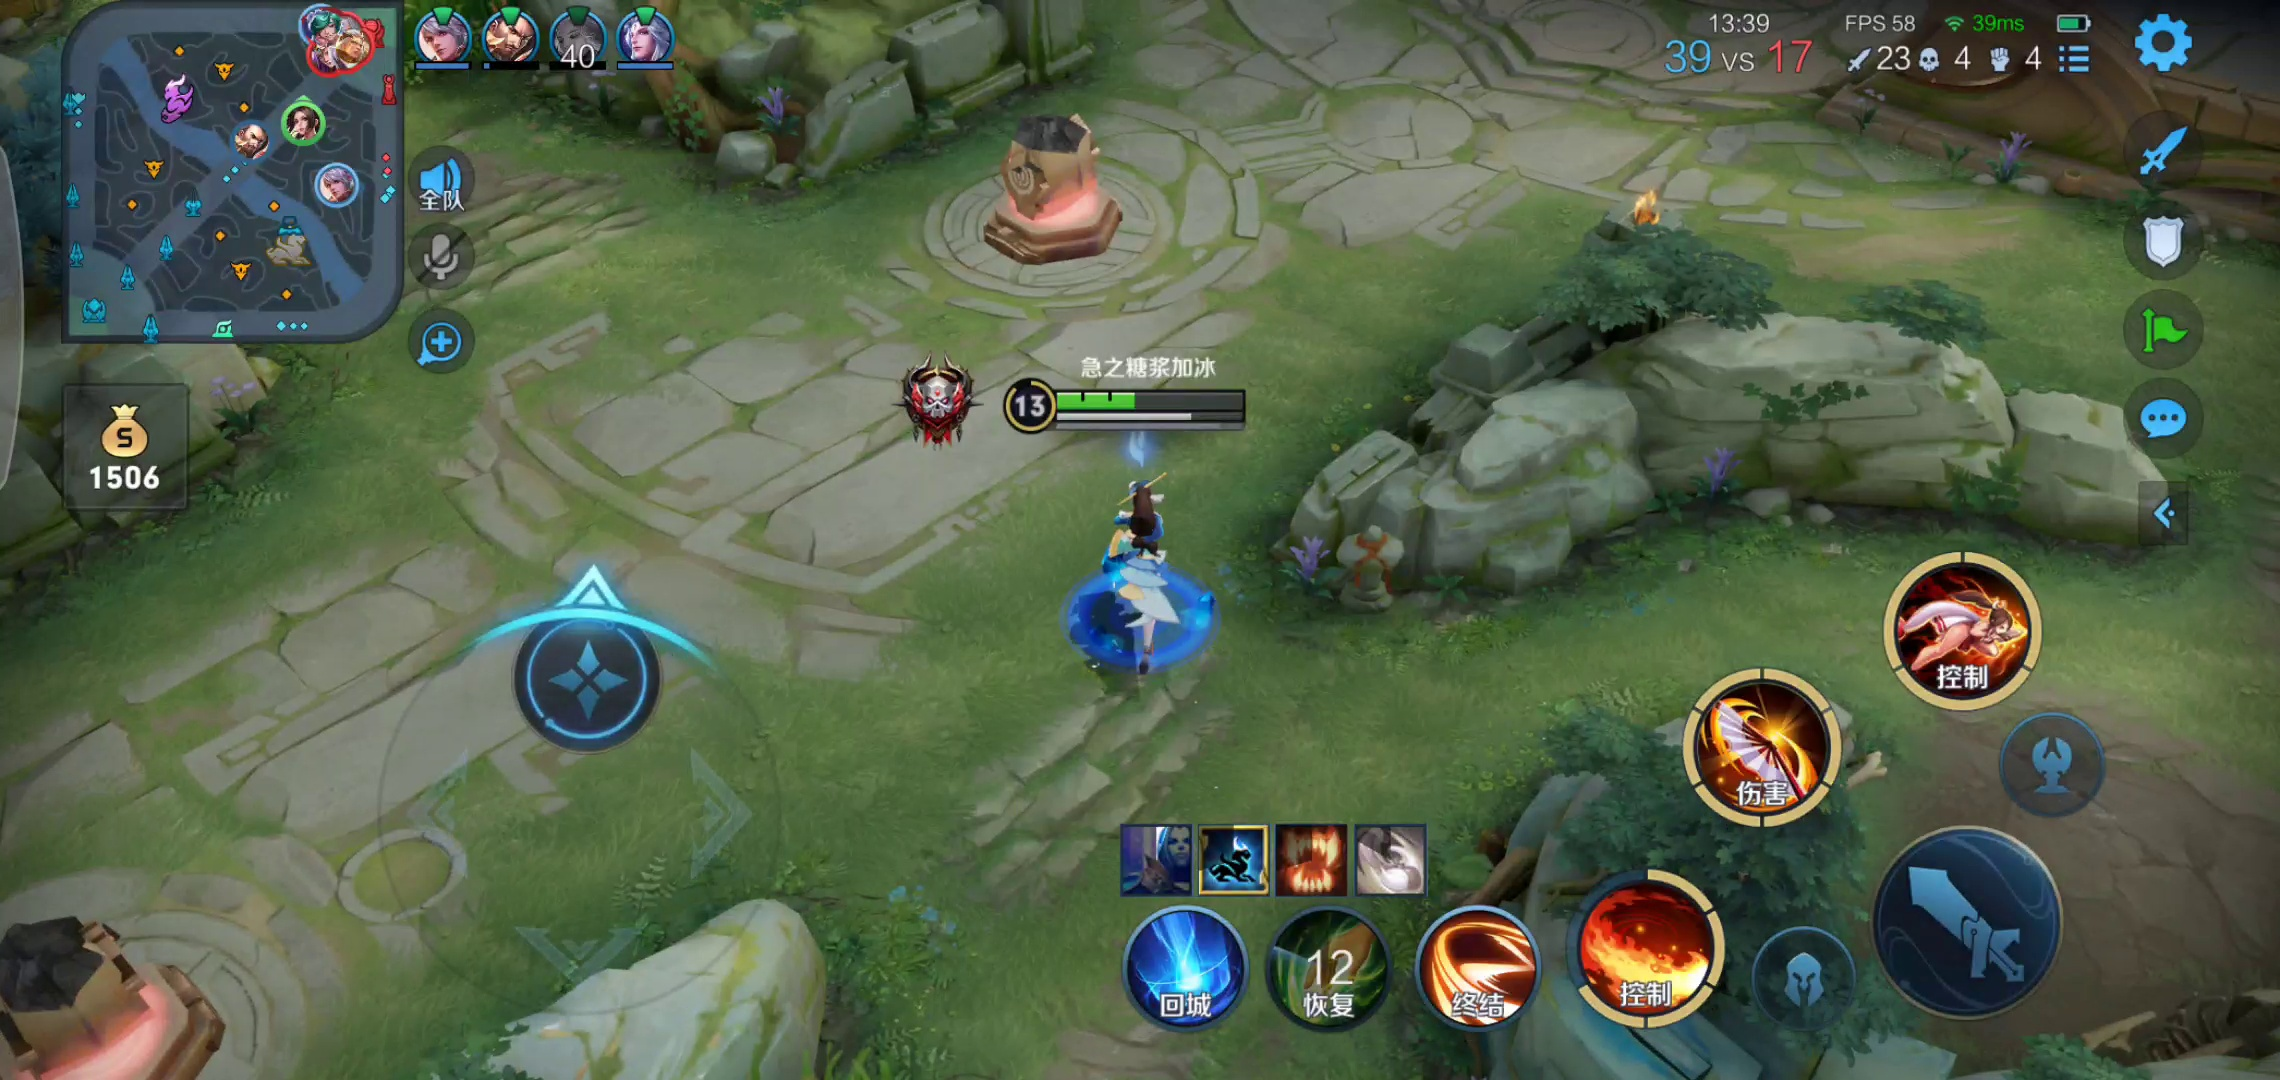hero: (1045, 456, 1219, 686)
tower: (1, 922, 260, 1077), (961, 96, 1143, 283)
